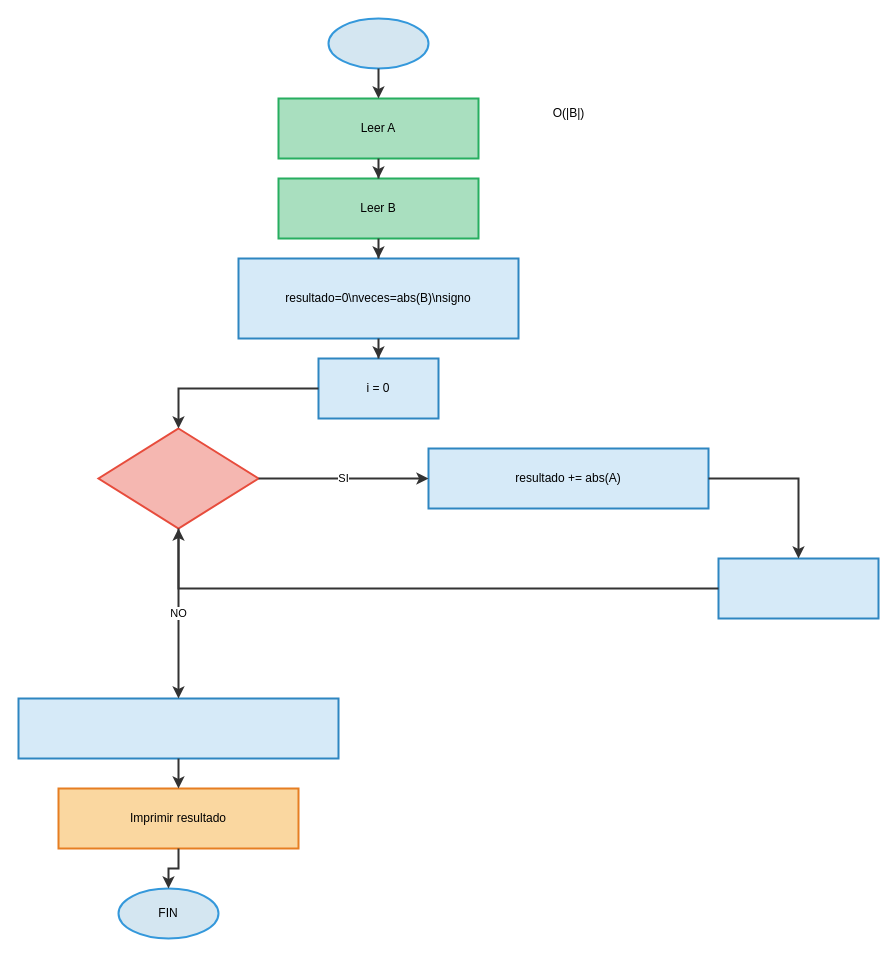
This 896x956 diagram has some shape labels left out. Here are the shapes that lost their labels. From the top down, the centre of each, then its label:
At (378,43): "INICIO".
At (178,478): "¿i < veces?".
At (798,588): "i = i + 1".
At (178,728): "resultado = resultado * signo".
